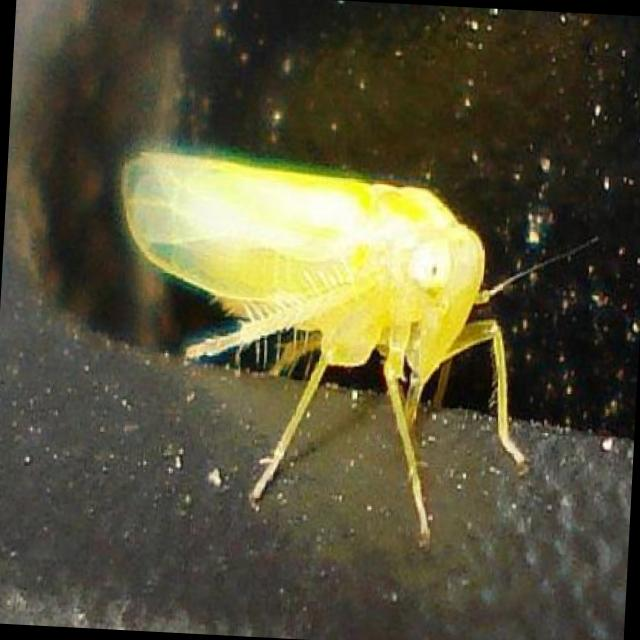green-leafhopper: (120, 149, 531, 548)
